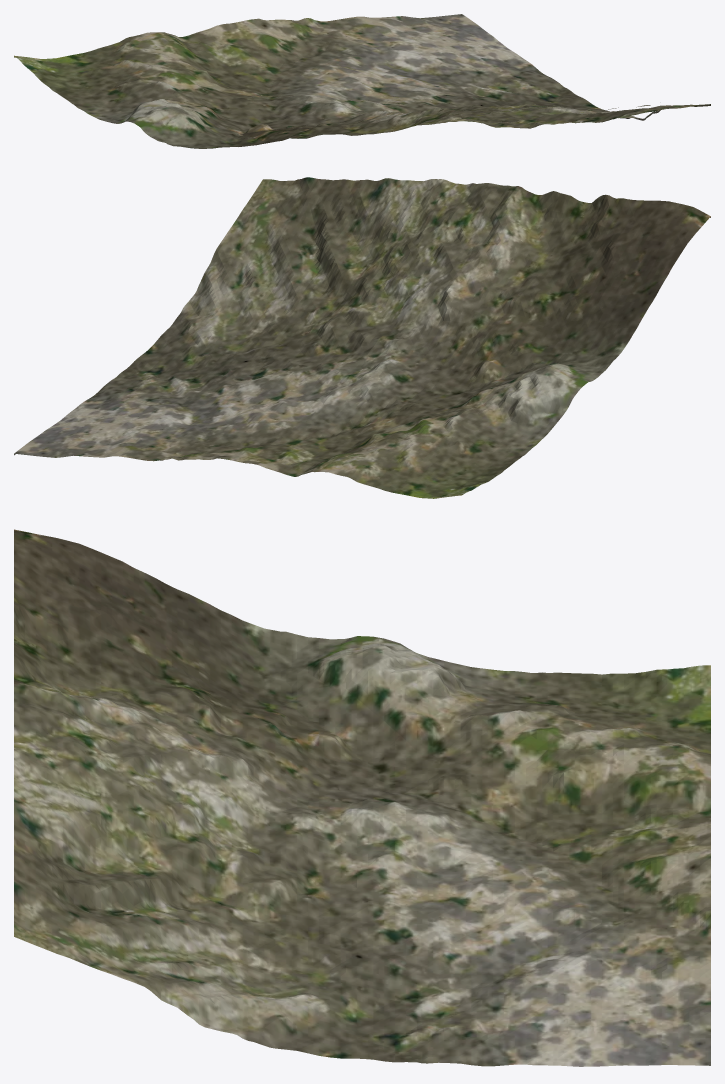
3 views of the same model, one above another, from view 1: azimuth 30°, elevation 25°; view 2: azimuth 150°, elevation 25°; view 3: azimuth 270°, elevation 25° (orthographic). The views are drawn at different scales.
Bounding box in the file's own units: 250 × 91.89 × 241.
1 material, 1 textured.
